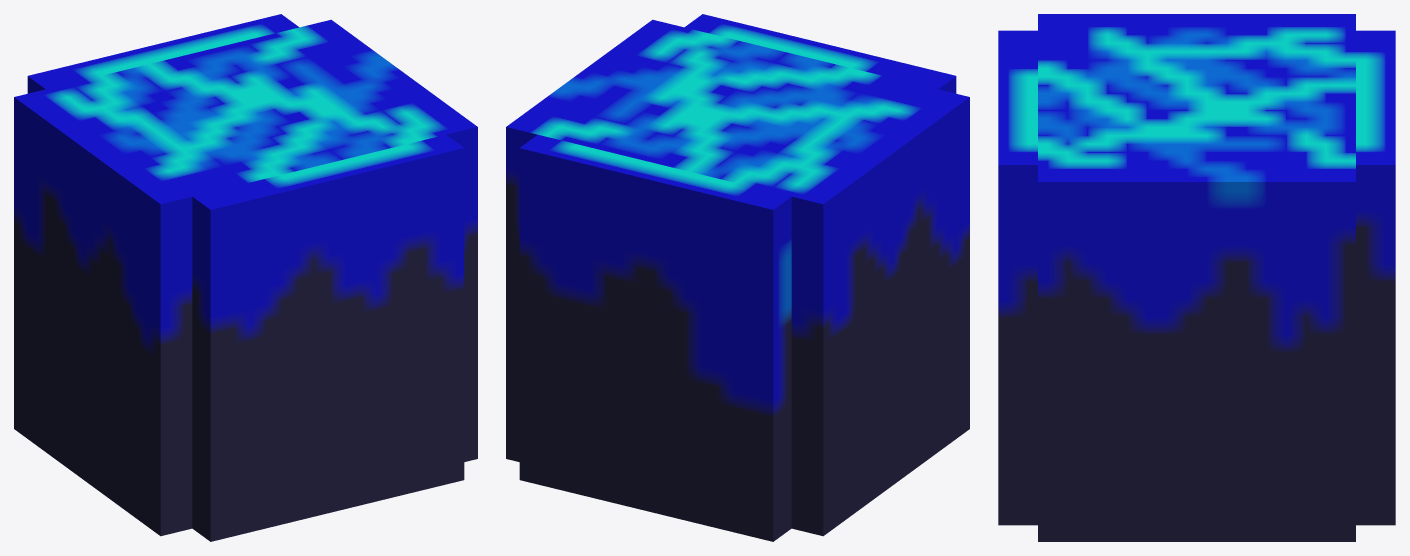
The model's file is IceTrap_0.fbx.
3 renders of one model, left to right at view 1: azimuth 30°, elevation 25°; view 2: azimuth 150°, elevation 25°; view 3: azimuth 270°, elevation 25°, orthographic. The views are drawn at different scales.
Parts seen in each view (by area): view 1: IceTrap_0; view 2: IceTrap_0; view 3: IceTrap_0.
Part boxes in pixels (x1=…): IceTrap_0: x1=14, y1=14, x2=477, y2=541; IceTrap_0: x1=506, y1=14, x2=969, y2=541; IceTrap_0: x1=998, y1=14, x2=1395, y2=541.
Size of the model in its own units: 20 by 20 by 20.
Materials: 1 (1 with a texture image).
